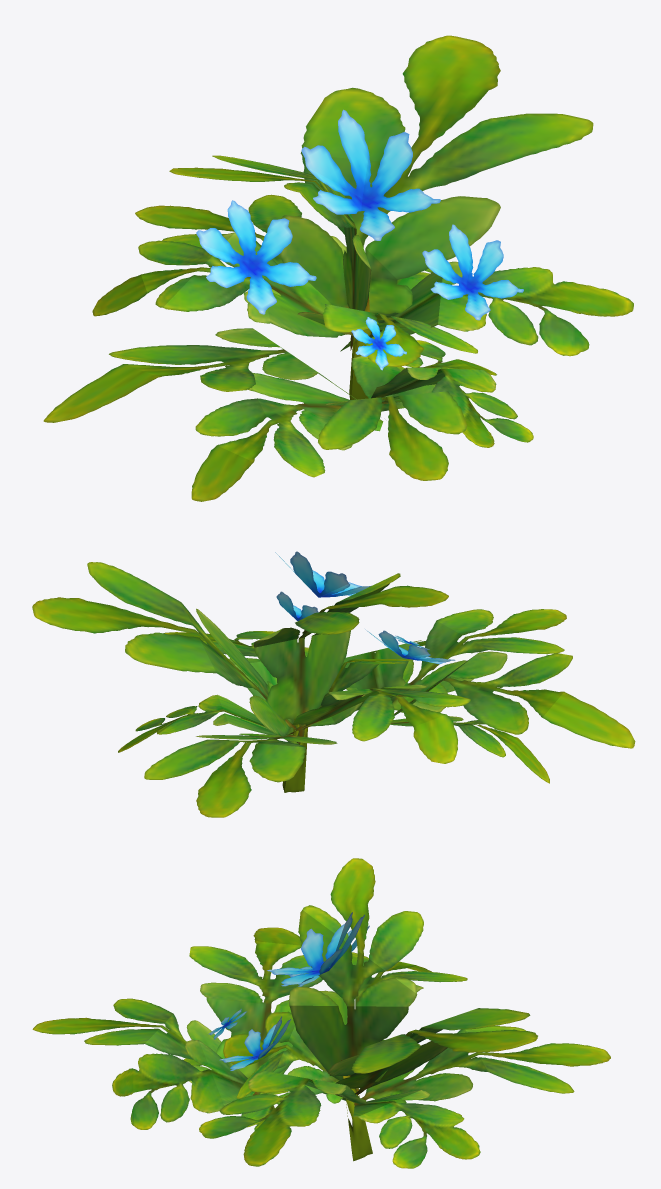
Rendered from hua04.FBX.
3 renders of one model, top to bottom at view 1: azimuth 30°, elevation 25°; view 2: azimuth 150°, elevation 25°; view 3: azimuth 270°, elevation 25°, orthographic. The views are drawn at different scales.
Parts seen in each view (by area): view 1: hua004; view 2: hua004; view 3: hua004.
Part boxes in pixels (bbox=[...]): hua004: bbox=[43, 35, 633, 501]; hua004: bbox=[32, 551, 635, 817]; hua004: bbox=[32, 858, 610, 1168].
Size of the model in its own units: 5.68 by 2.53 by 5.54.
